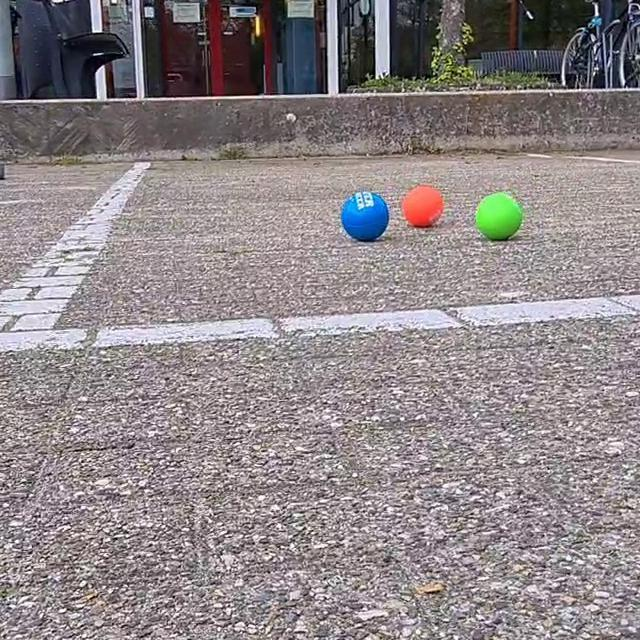ball: (472, 188, 526, 244), (339, 188, 391, 245), (398, 183, 448, 230)
